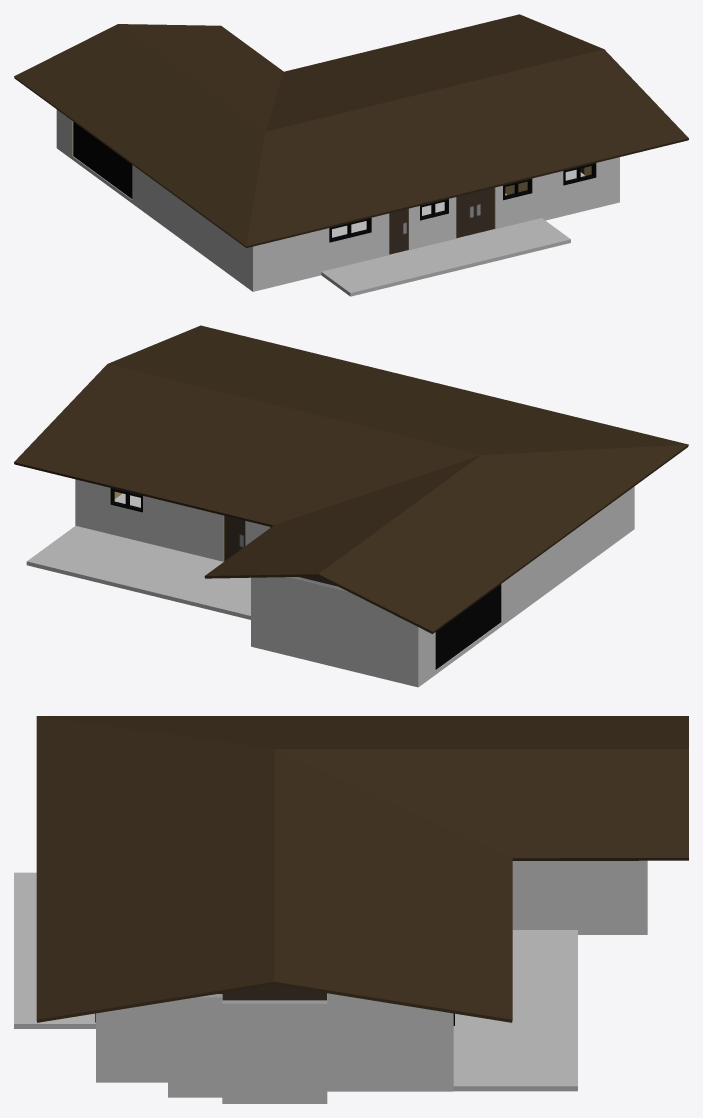
Rendered from DoNotUse.fbx.
The picture shows the model from 3 angles, top to bottom: view 1: azimuth 30°, elevation 25°; view 2: azimuth 150°, elevation 25°; view 3: azimuth 270°, elevation 25°; orthographic projection. The views are drawn at different scales.
Parts seen in each view (by area): view 1: Roof, House, FrontDoor1, FrontDoor2, MasterDoor2; view 2: Roof, House, RearDoor; view 3: Roof, House.
Part boxes in pixels (<box>): Roof: <box>14,14,688,247</box>; House: <box>56,109,619,296</box>; FrontDoor1: <box>456,192,475,238</box>; FrontDoor2: <box>475,187,494,233</box>; MasterDoor2: <box>389,209,408,254</box>; Roof: <box>14,325,688,633</box>; House: <box>26,479,634,687</box>; RearDoor: <box>224,515,245,561</box>; Roof: <box>36,716,688,1022</box>; House: <box>14,860,647,1103</box>.
Bounding box in the file's own units: 20.81 × 4.27 × 19.55.
